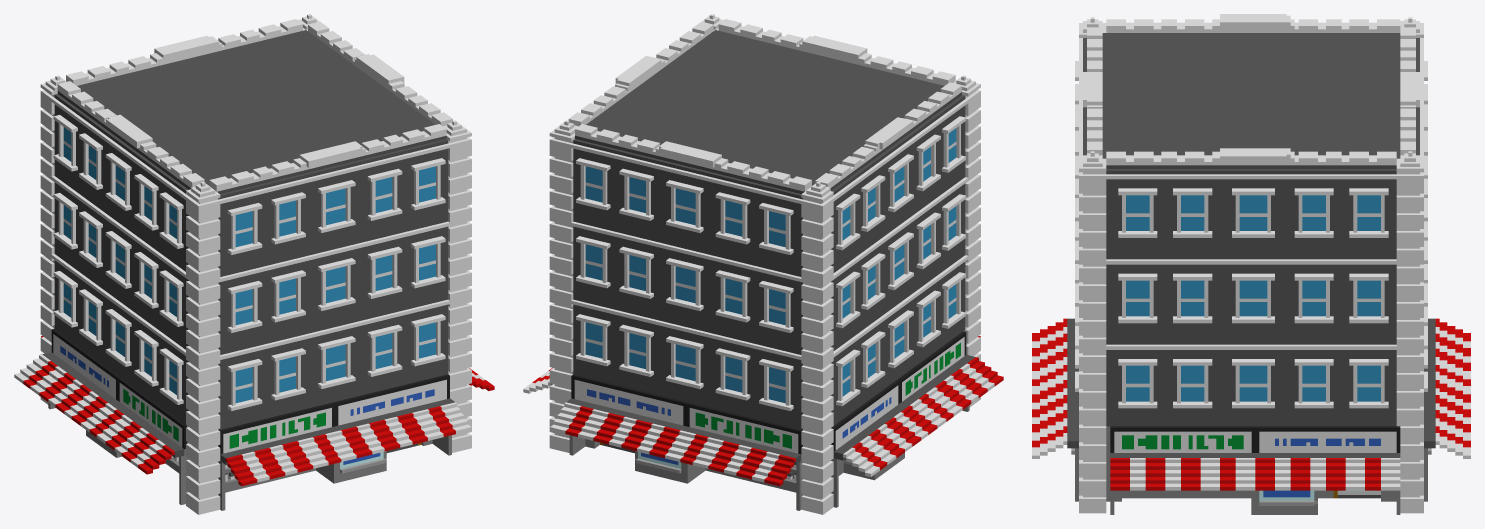
File: obj_store07_Grey red.obj
3 views of the same model, side by side, from view 1: azimuth 30°, elevation 25°; view 2: azimuth 150°, elevation 25°; view 3: azimuth 270°, elevation 25° (orthographic). The views are drawn at different scales.
Size of the model in its own units: 11.2 by 10 by 11.2.
1 material, 1 textured.
